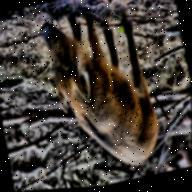boar: (23, 0, 183, 179)
